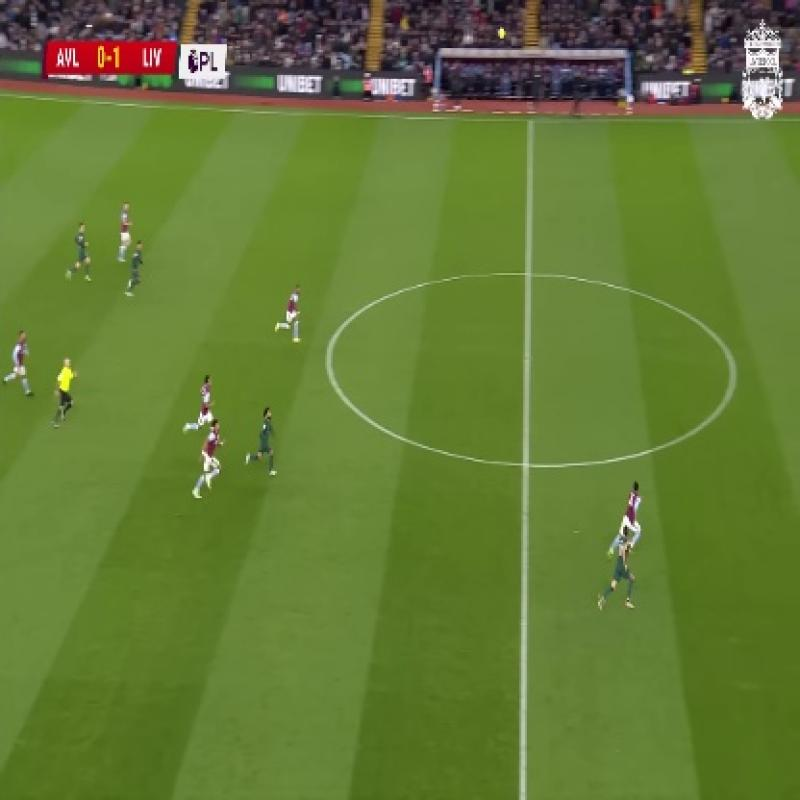13: (519, 103, 542, 134)
14: (510, 252, 544, 294)
15: (510, 440, 540, 484)
c: (708, 354, 764, 396), (311, 334, 350, 382)
